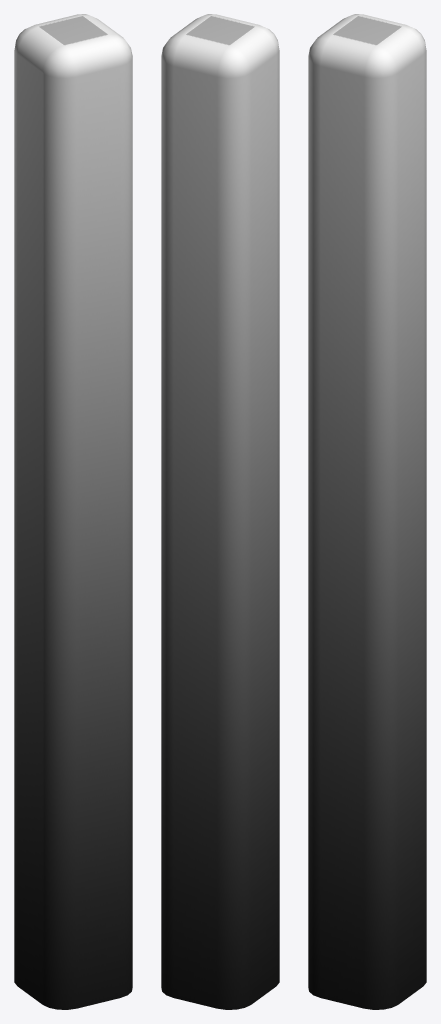
3 views of the same model, side by side, from view 1: azimuth 30°, elevation 25°; view 2: azimuth 150°, elevation 25°; view 3: azimuth 330°, elevation 25° (orthographic).
Visible parts, largest first — view 1: File_1x1; view 2: File_1x1; view 3: File_1x1.
Part boxes in pixels (x1,y1,x2,y2): File_1x1: (14,14,132,1009); File_1x1: (161,14,279,1009); File_1x1: (308,14,426,1009).
Bounding box in the file's own units: 128 × 1344 × 128.
Materials: 1 (1 with a texture image).
